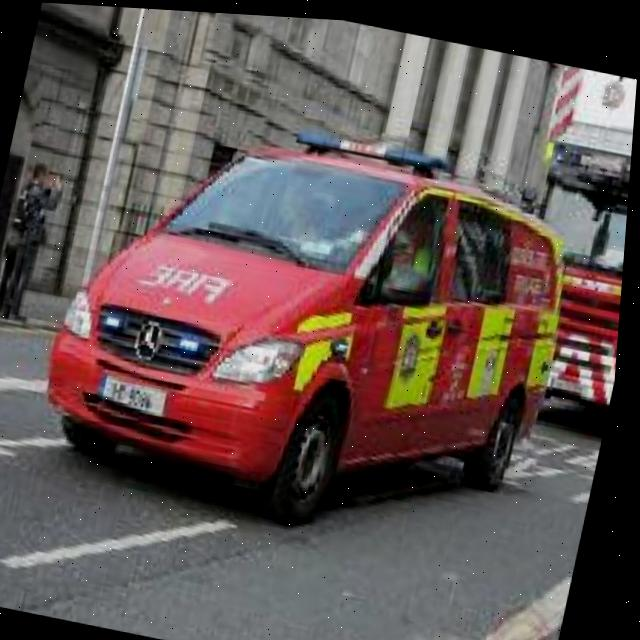emergency: (26, 79, 602, 567), (482, 135, 633, 411)
